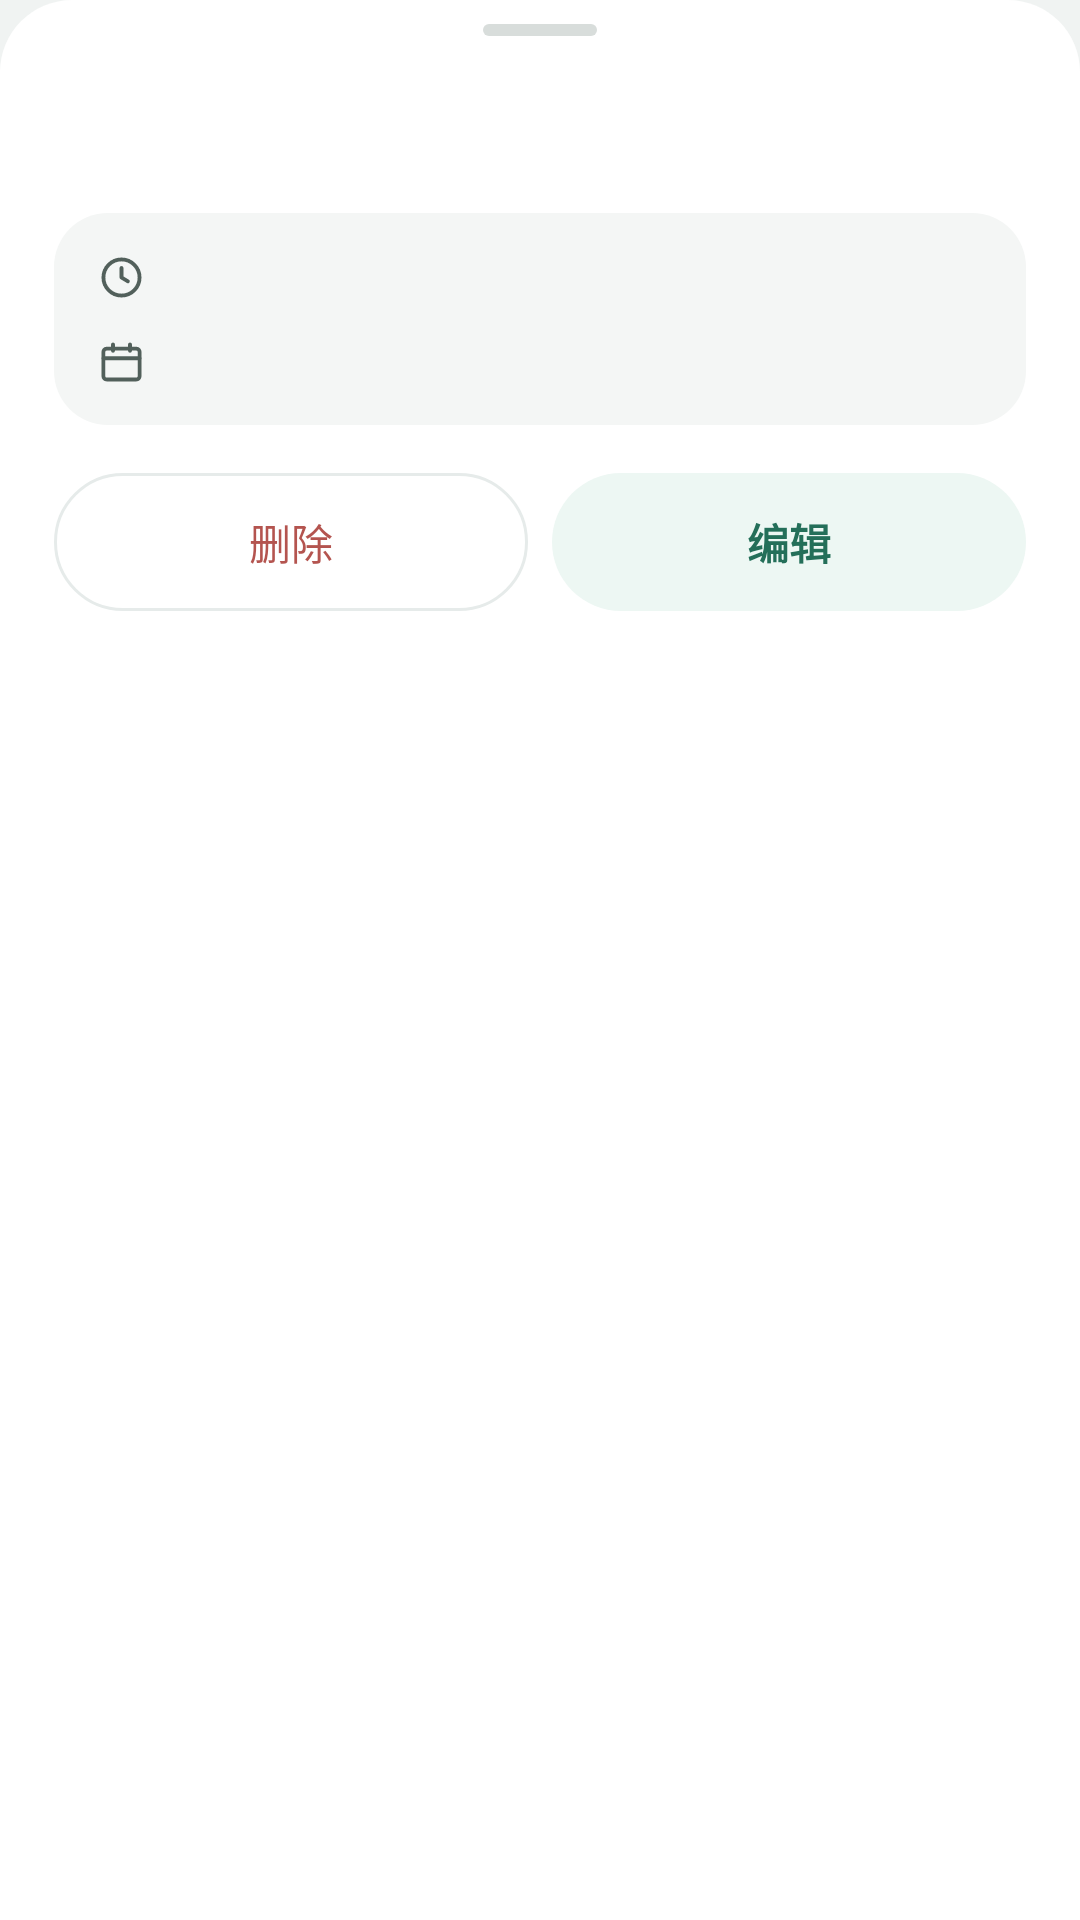

Locate icon controls on the screen. Image size 1080 × 1920, boxes as [left=x1, top=y1, right=x2, bottom=y2].
calendar: [left=101, top=342, right=142, bottom=382]
clock: [left=101, top=257, right=142, bottom=298]
